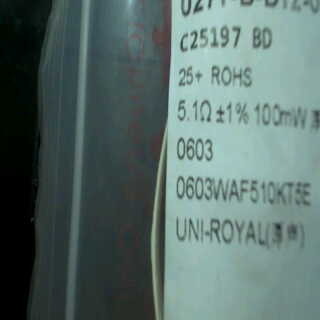5.1R: (175, 91, 225, 129)
